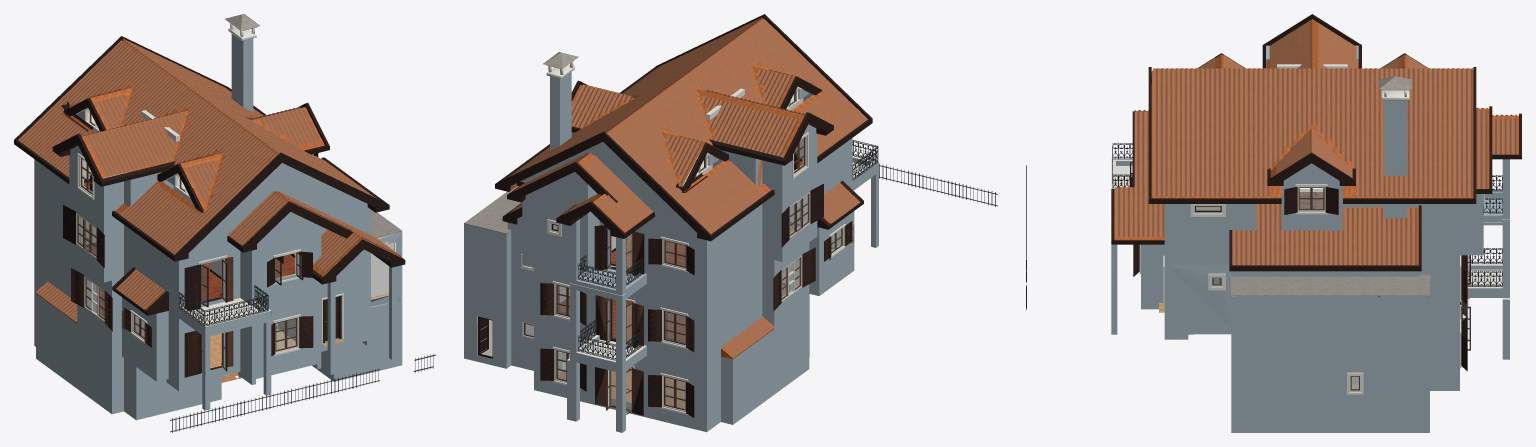
File: BUILDING-opt-v6.glb
3 views of the same model, side by side, from view 1: azimuth 30°, elevation 25°; view 2: azimuth 150°, elevation 25°; view 3: azimuth 270°, elevation 25° (orthographic).
Visible parts, largest first — view 1: LM_cephe_002, Clay tile.001, WOODY-DARK (×4), LM_zemin_019, LM_cephe_003, metal.001, glass, LM_zemin_014, LM_duvar_001, LM_cephe_000, LM_zemin_011, EK_garaj_kapisi (+1 smaller); view 2: LM_cephe_002, Clay tile.001, WOODY-DARK (×4), LM_zemin_019, glass, LM_cephe_003, metal.001, LM_zemin_014, LM_cephe_000, LM_duvar_001, LM_zemin_012; view 3: LM_cephe_002, Clay tile.001, WOODY-DARK (×4), LM_cephe_000, LM_zemin_019, LM_cephe_003, LM_cephe_001, metal.001, glass.
Boxes of the visible parts, x1=… form: LM_cephe_002: x1=34, y1=34, x2=402, y2=420; Clay tile.001: x1=18, y1=38, x2=401, y2=321; WOODY-DARK (×4): x1=14, y1=36, x2=405, y2=377; LM_zemin_019: x1=76, y1=23, x2=395, y2=355; LM_cephe_003: x1=62, y1=40, x2=329, y2=241; metal.001: x1=170, y1=285, x2=435, y2=432; glass: x1=78, y1=216, x2=301, y2=368; LM_zemin_014: x1=84, y1=182, x2=295, y2=316; LM_duvar_001: x1=81, y1=108, x2=295, y2=375; LM_cephe_000: x1=225, y1=14, x2=402, y2=237; LM_zemin_011: x1=202, y1=293, x2=388, y2=370; EK_garaj_kapisi: x1=371, y1=243, x2=393, y2=297; LM_cephe_002: x1=464, y1=72, x2=878, y2=432; Clay tile.001: x1=509, y1=17, x2=867, y2=357; WOODY-DARK (×4): x1=478, y1=14, x2=872, y2=417; LM_zemin_019: x1=521, y1=61, x2=876, y2=414; glass: x1=525, y1=195, x2=841, y2=412; LM_cephe_003: x1=571, y1=18, x2=823, y2=229; metal.001: x1=578, y1=140, x2=997, y2=360; LM_zemin_014: x1=560, y1=161, x2=802, y2=342; LM_cephe_000: x1=464, y1=52, x2=578, y2=234; LM_duvar_001: x1=480, y1=88, x2=839, y2=361; LM_zemin_012: x1=558, y1=367, x2=684, y2=408; LM_cephe_002: x1=1111, y1=45, x2=1509, y2=432; Clay tile.001: x1=1115, y1=21, x2=1516, y2=265; WOODY-DARK (×4): x1=1111, y1=14, x2=1521, y2=390; LM_cephe_000: x1=1230, y1=76, x2=1430, y2=296; LM_zemin_019: x1=1111, y1=89, x2=1509, y2=394; LM_cephe_003: x1=1135, y1=19, x2=1518, y2=189; LM_cephe_001: x1=1114, y1=151, x2=1518, y2=265; metal.001: x1=1026, y1=143, x2=1502, y2=309; glass: x1=1131, y1=163, x2=1469, y2=388.
Bounding box in the file's own units: 16.62 × 14.92 × 20.98.
67 materials, 39 textured.
